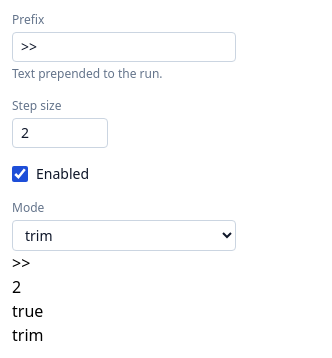
Test: SchemaSettingsPanel › toggles a boolean field, live
The image size is (332, 358).
Click the checkbox labelled "Enabled" at (20, 174), box [12, 166, 28, 182]
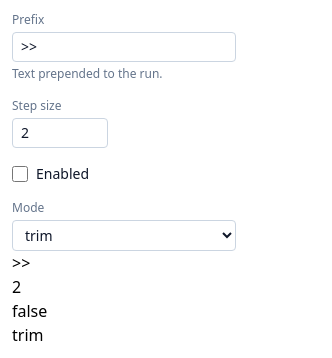
Result: the text with test id "consume-enabled" reads "false" at [12, 300, 47, 322]
